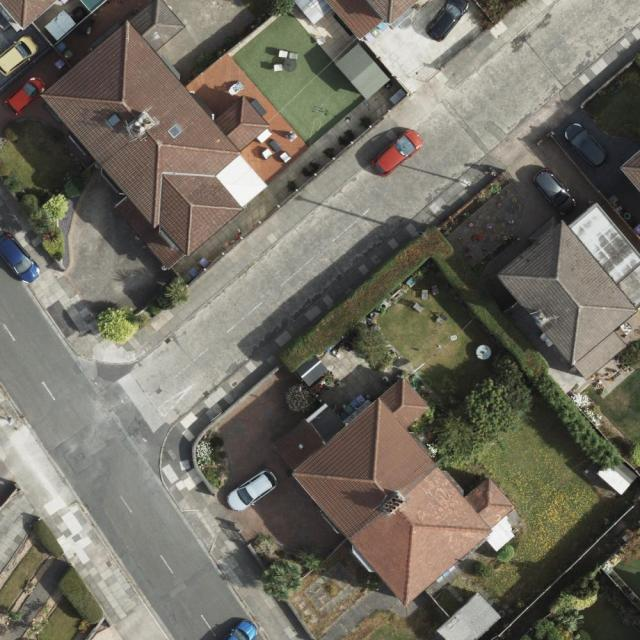roof: (39, 0, 272, 272), (294, 372, 518, 609), (497, 205, 640, 381), (323, 0, 424, 42), (621, 150, 640, 192)
skylight: (104, 111, 123, 127), (167, 123, 185, 139)
